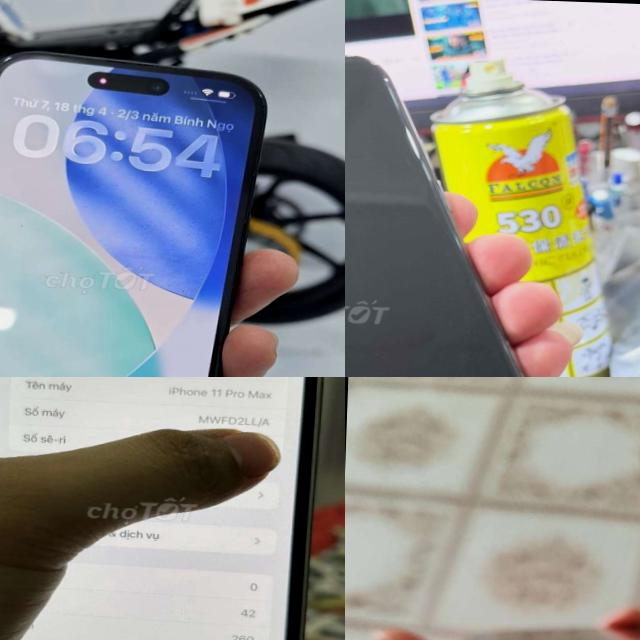gen_11: (0, 377, 345, 640)
gen_16: (0, 53, 264, 377)
gen_x_xs: (345, 57, 523, 377)
scratch: (345, 48, 406, 97)
